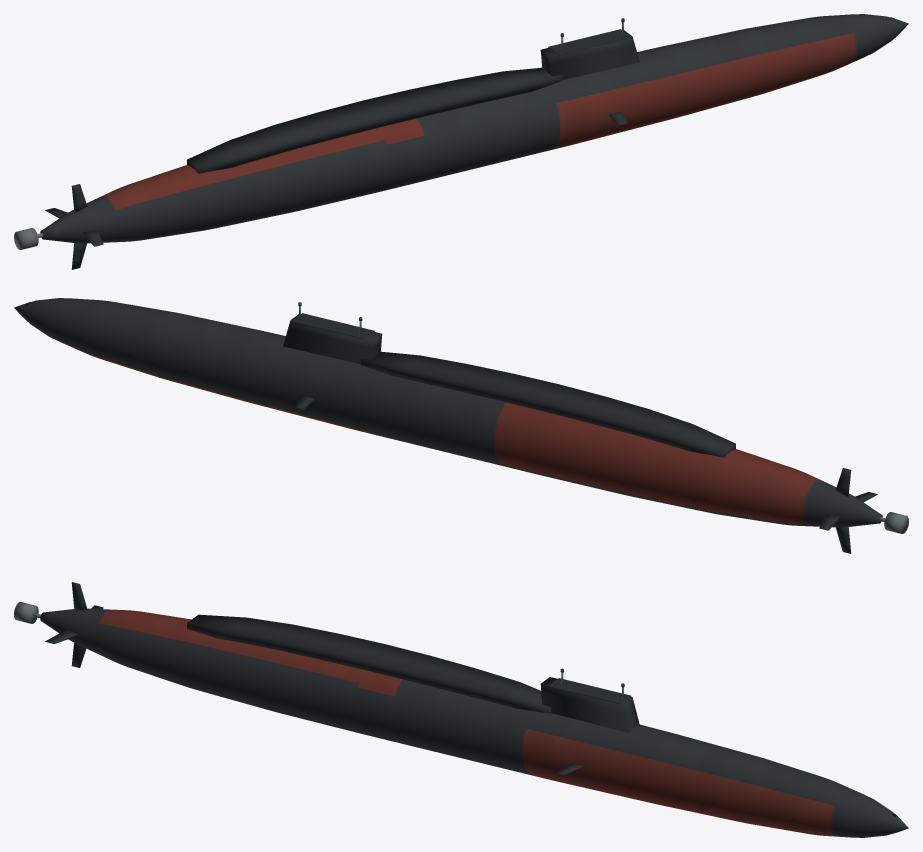
The model's file is US_SSBN_Columbia.glb.
3 renders of one model, top to bottom at view 1: azimuth 30°, elevation 25°; view 2: azimuth 150°, elevation 25°; view 3: azimuth 330°, elevation 25°, orthographic.
Parts seen in each view (by area): view 1: US_SSBN_Columbia_LOD0; view 2: US_SSBN_Columbia_LOD0; view 3: US_SSBN_Columbia_LOD0.
Boxes of the visible parts, x1,y1,x2,y2 form: US_SSBN_Columbia_LOD0: (14,14,908,269); US_SSBN_Columbia_LOD0: (14,298,908,553); US_SSBN_Columbia_LOD0: (14,582,908,837).
Size of the model in its own units: 176 by 21.93 by 21.95.
Materials: 6 (1 with a texture image).
